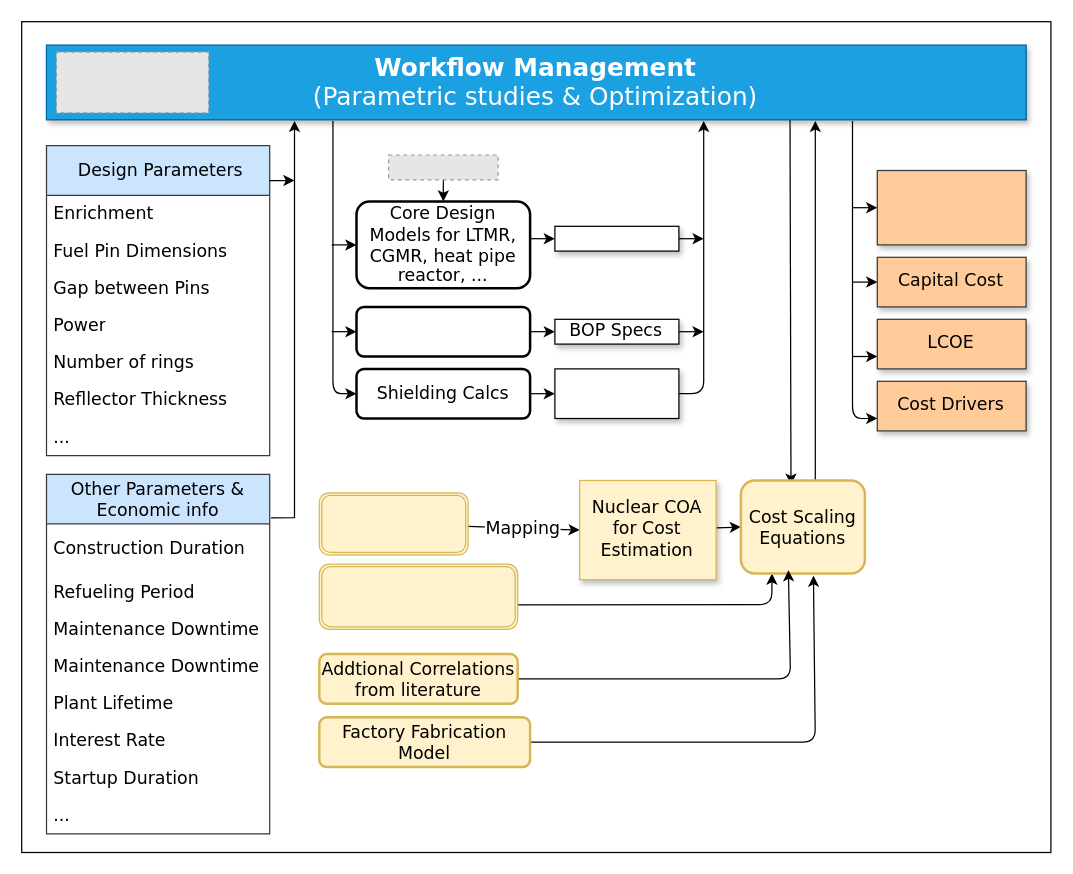
Some shapes in this 1073 by 874 pixel diagram are drawn without their labels. Grey dashed boxes stand in for pictures. Here are the shapes that lost their labels. From the top down, the centre of each, then its label:
At (x=952, y=209): "Detailed FOAK & NOAK Cost Table".
At (x=617, y=240): "Fuel lifetime".
At (x=443, y=331): "Simplistic TH Models".
At (x=617, y=395): "Shielding Thickness".
At (x=393, y=523): "MARVEL Cost".
At (x=418, y=596): "MARVEL Design Params".
